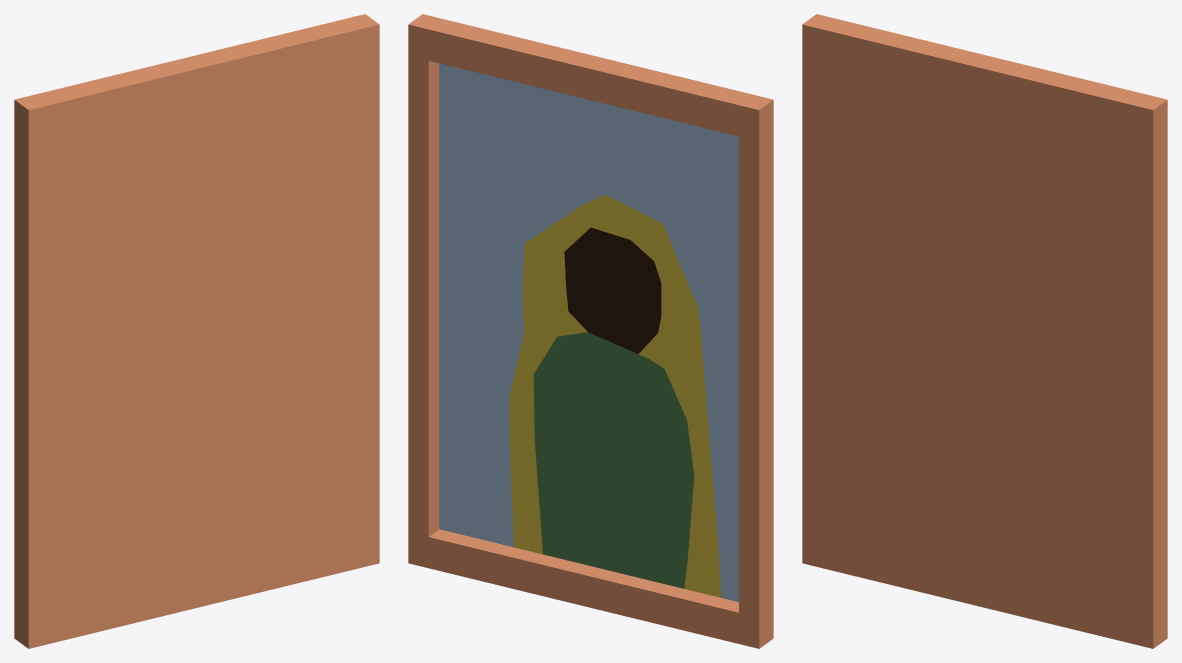
Rendered from frame.fbx.
3 renders of one model, left to right at view 1: azimuth 30°, elevation 25°; view 2: azimuth 150°, elevation 25°; view 3: azimuth 330°, elevation 25°, orthographic.
Parts seen in each view (by area): view 1: Cube.015; view 2: Cube.015; view 3: Cube.015.
Part boxes in pixels (x1,y1,x2,y2): Cube.015: [14, 14, 379, 648]; Cube.015: [408, 14, 773, 648]; Cube.015: [802, 14, 1167, 648].
Size of the model in its own units: 33.18 by 48.67 by 2.36.
